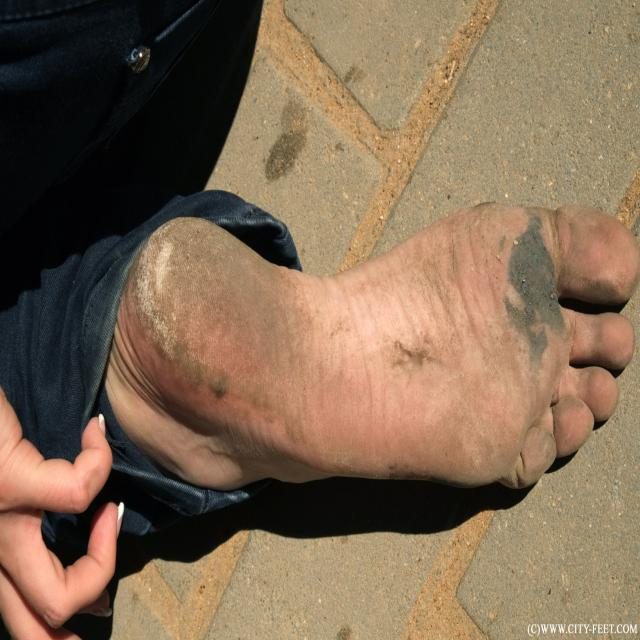Barefoots: (119, 200, 640, 491)
